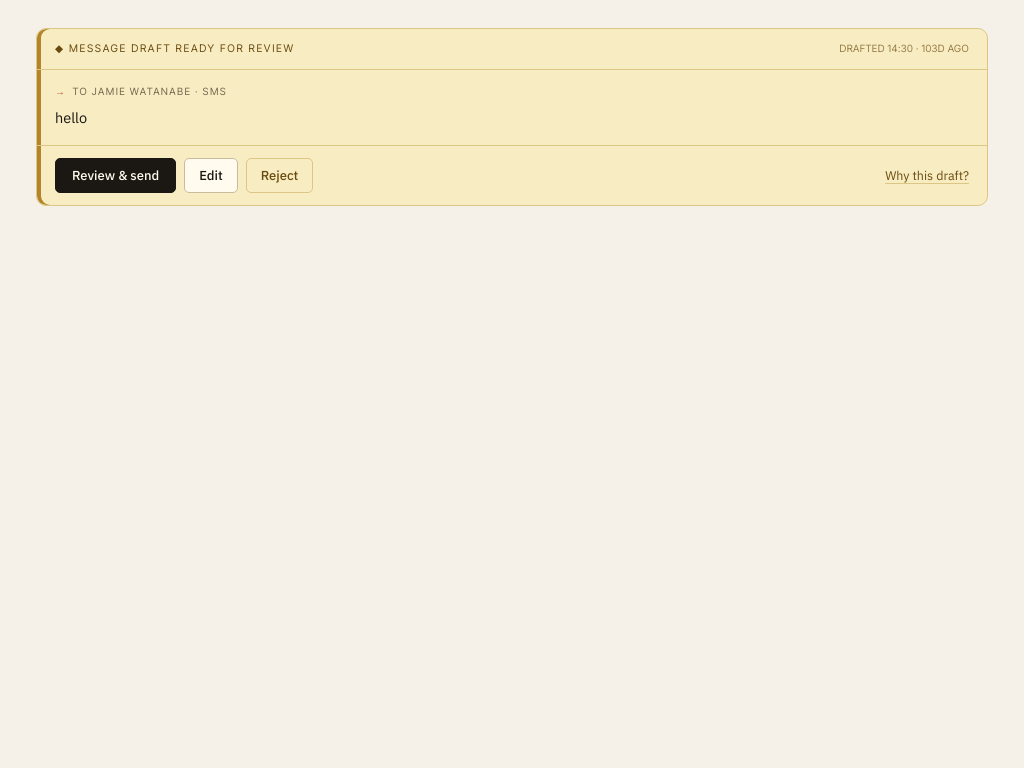
DraftHeroCard › why this draft popover › should keep raw reasoning out of customer copy
Click the button with test id "pending-draft-why".
click(927, 175)  # box top-left (885, 166), bottom-right (969, 185)
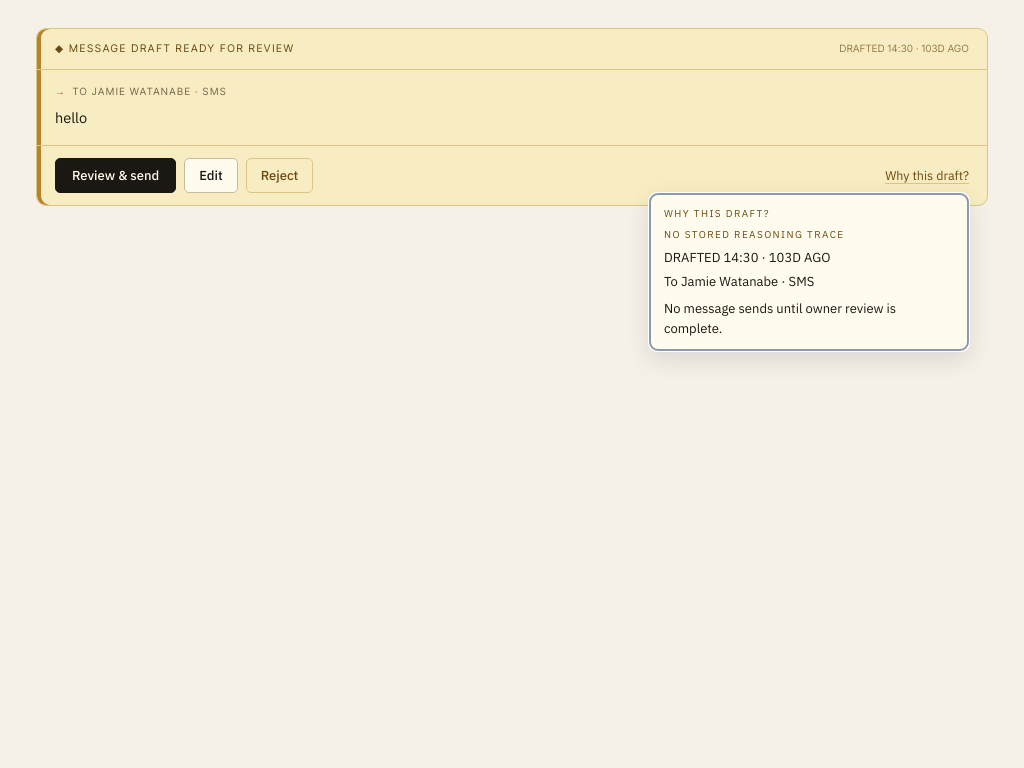
Now the element with test id "pending-draft-why-fallback" is shown, box top-left (664, 228), bottom-right (896, 336)
